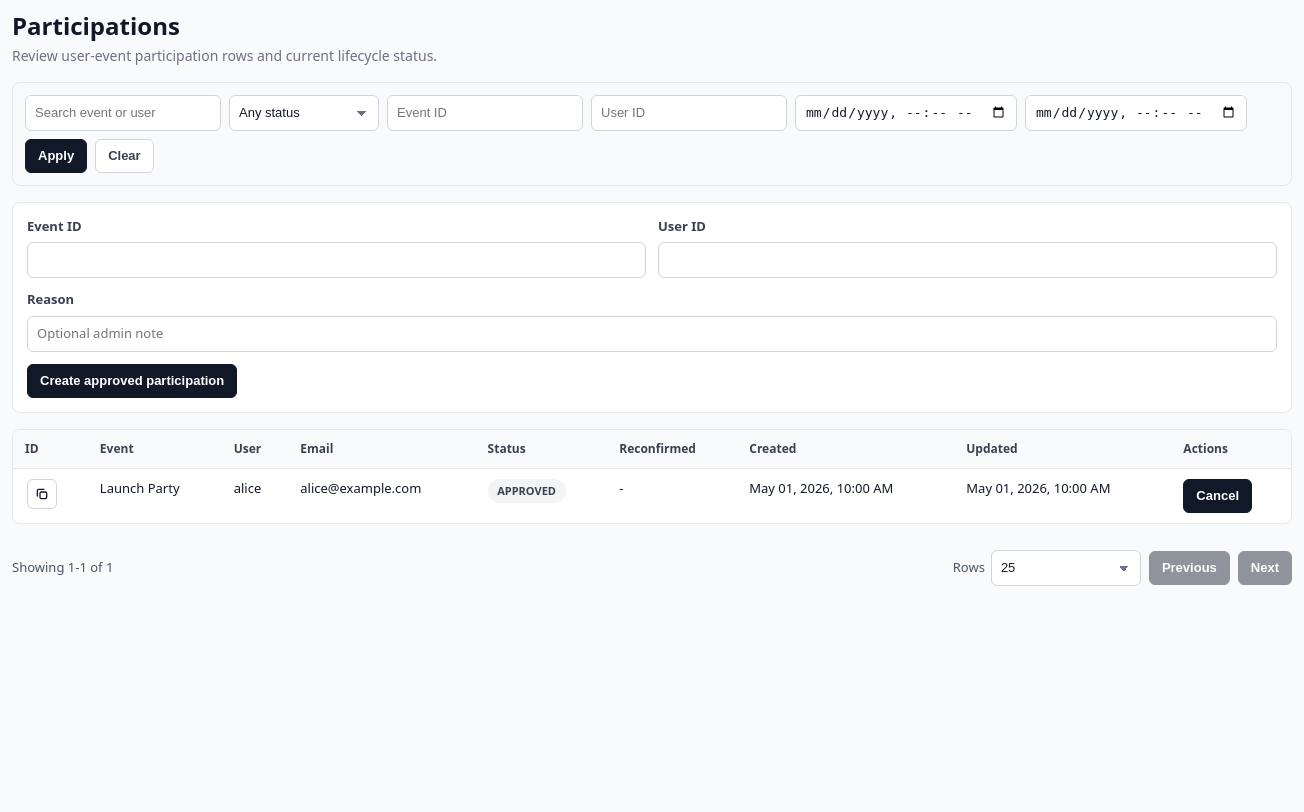
Test: ParticipationsAdminPage › shows create validation and backend failures without refreshing
Expected: the text "Launch Party" is shown, [88, 468, 222, 523]
Step 1. Type "bad" into the field named "Manual event ID" → (336, 260), box [27, 242, 646, 278]
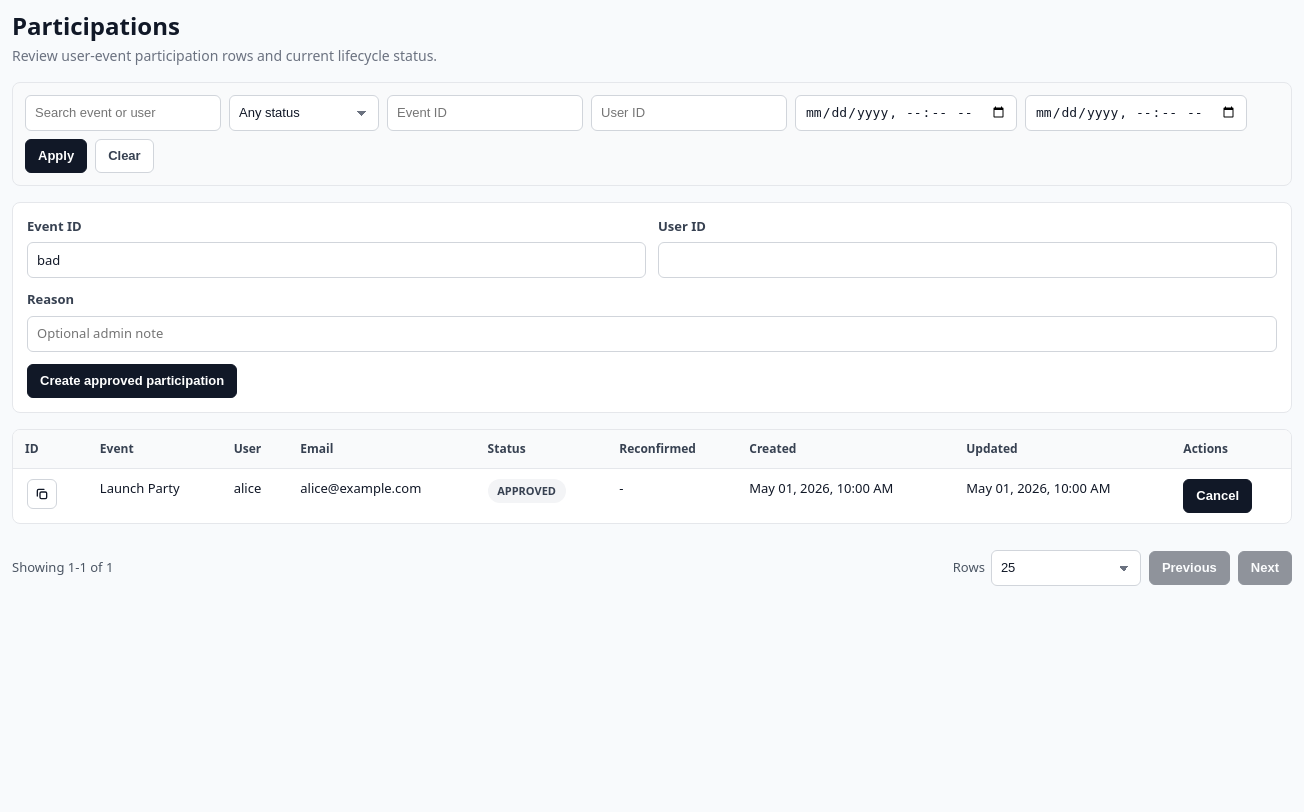
Step 2. Click the button "Create approved participation" → click(132, 381), box [27, 364, 237, 398]
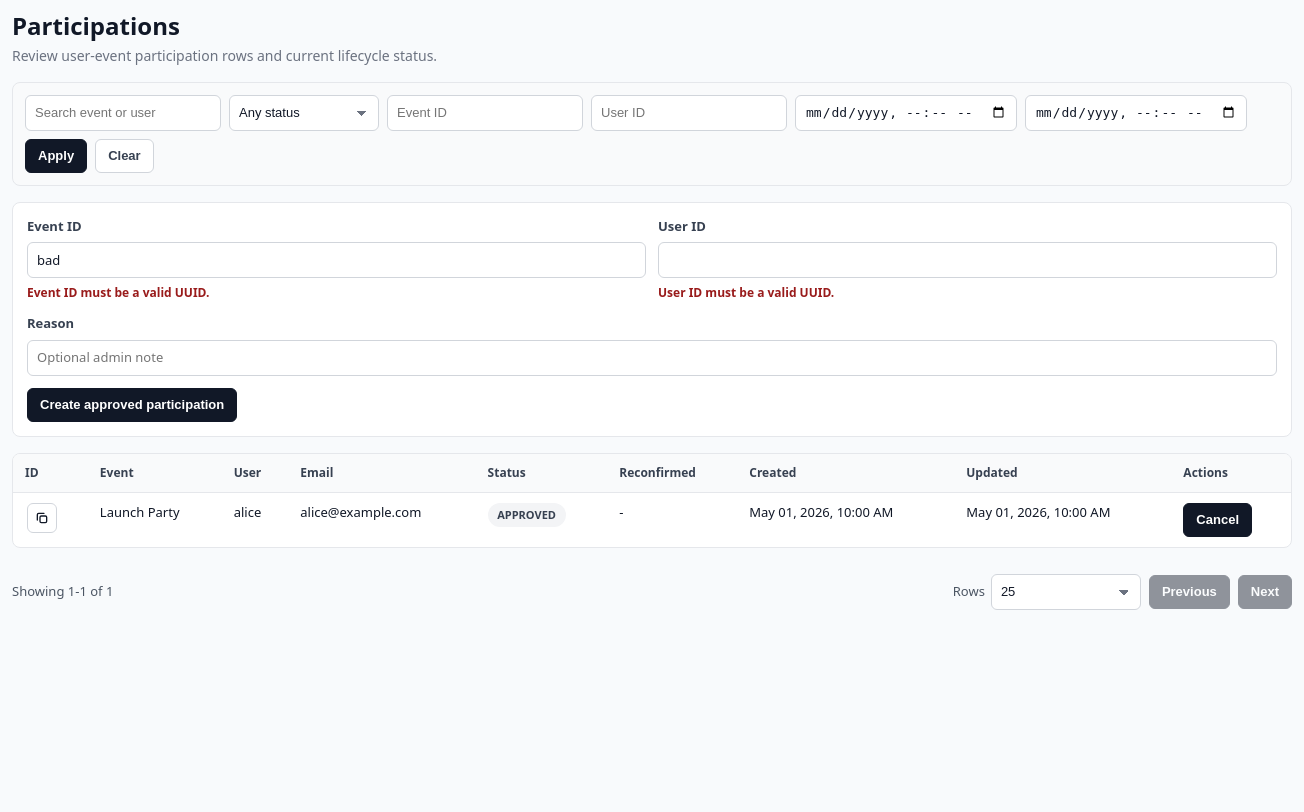
Result: the text "Event ID must be a valid UUID." is shown at [27, 284, 209, 301]
Step 3. Replace the text in the field named "Manual event ID" with "11111111-1111-4111-8111-111111111111" → (336, 260), box [27, 242, 646, 278]
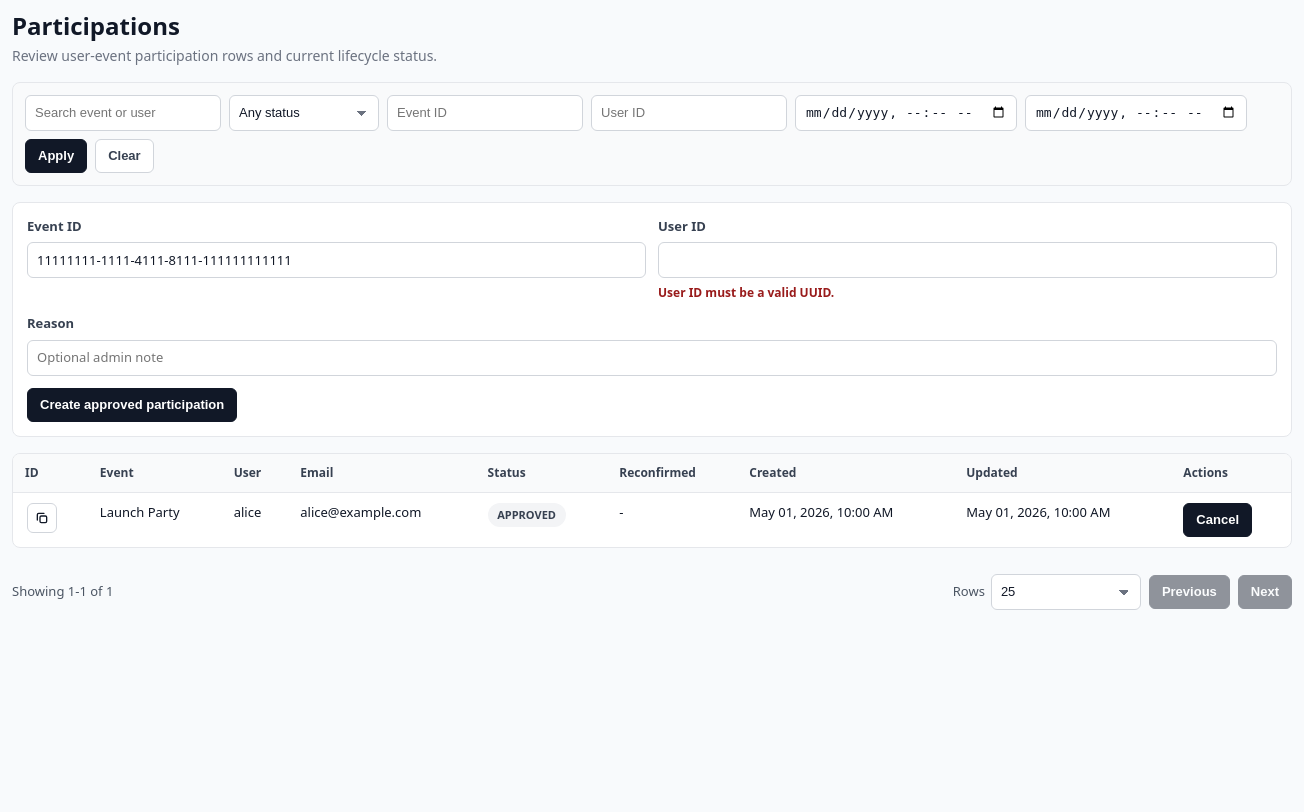
Step 4. Type "22222222-2222-4222-8222-222222222222" into the field named "Manual user ID" → (968, 260), box [658, 242, 1277, 278]
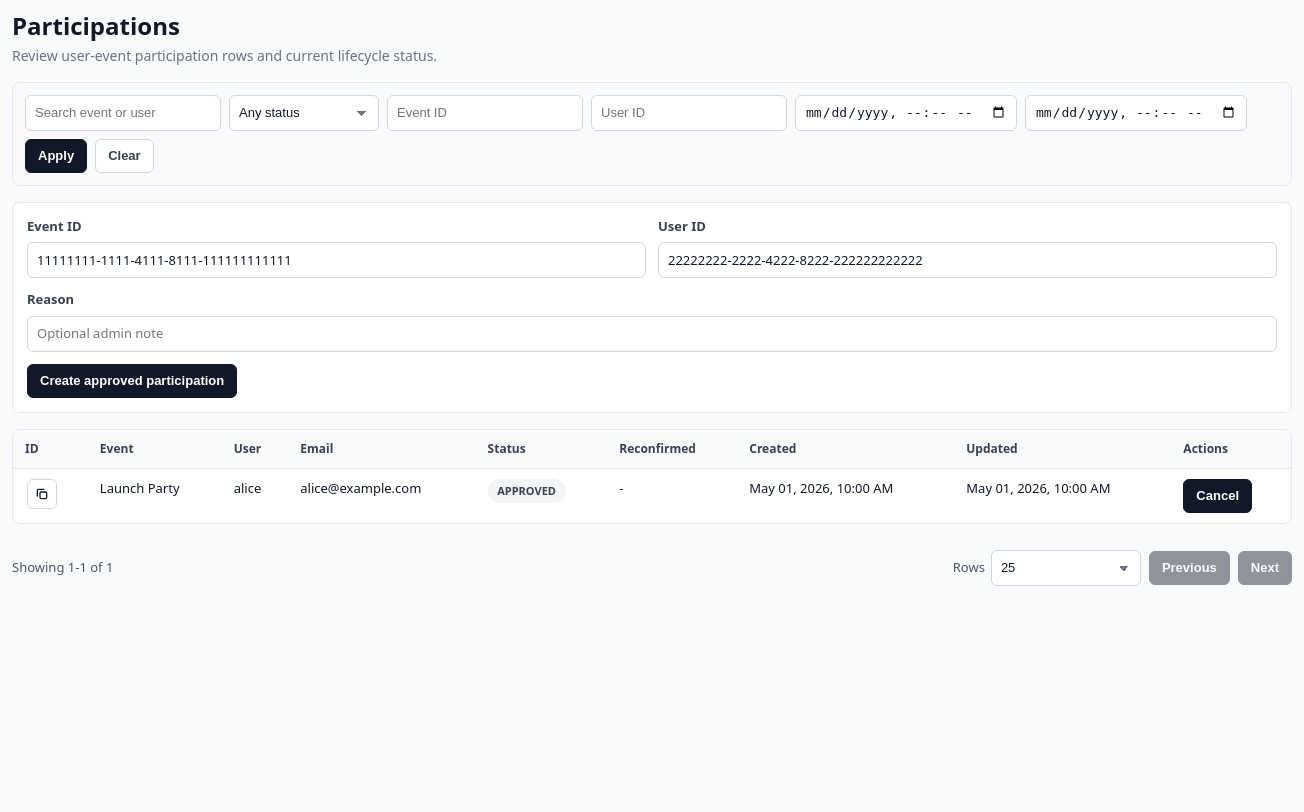
Step 5. Click the button "Create approved participation" → click(132, 381), box [27, 364, 237, 398]
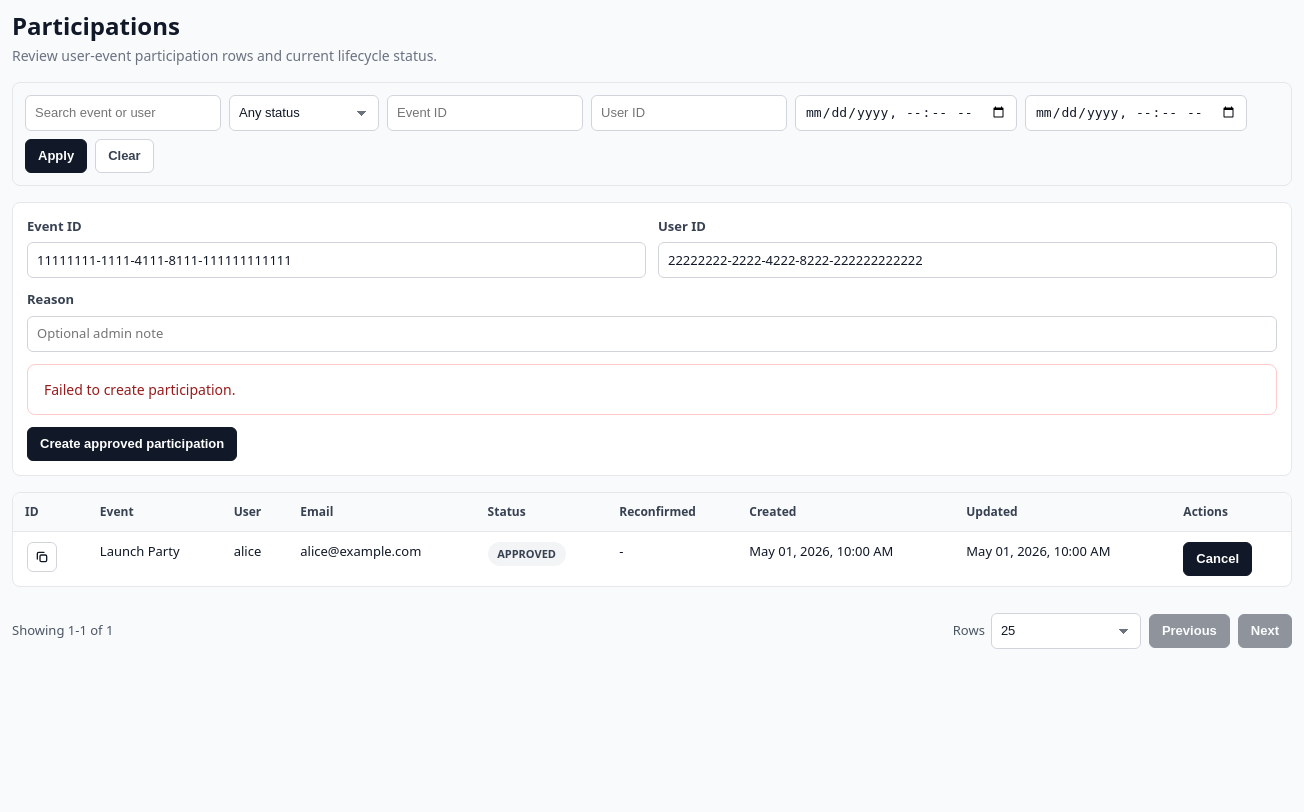
Result: the text "Failed to create participation." is shown at [27, 364, 1277, 415]
